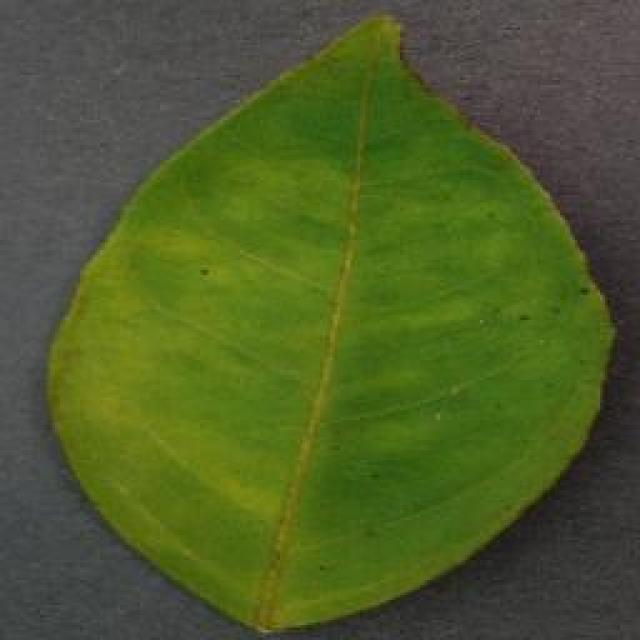Orange_Haunglongbing_Citrus_greening: (121, 86, 510, 576)
